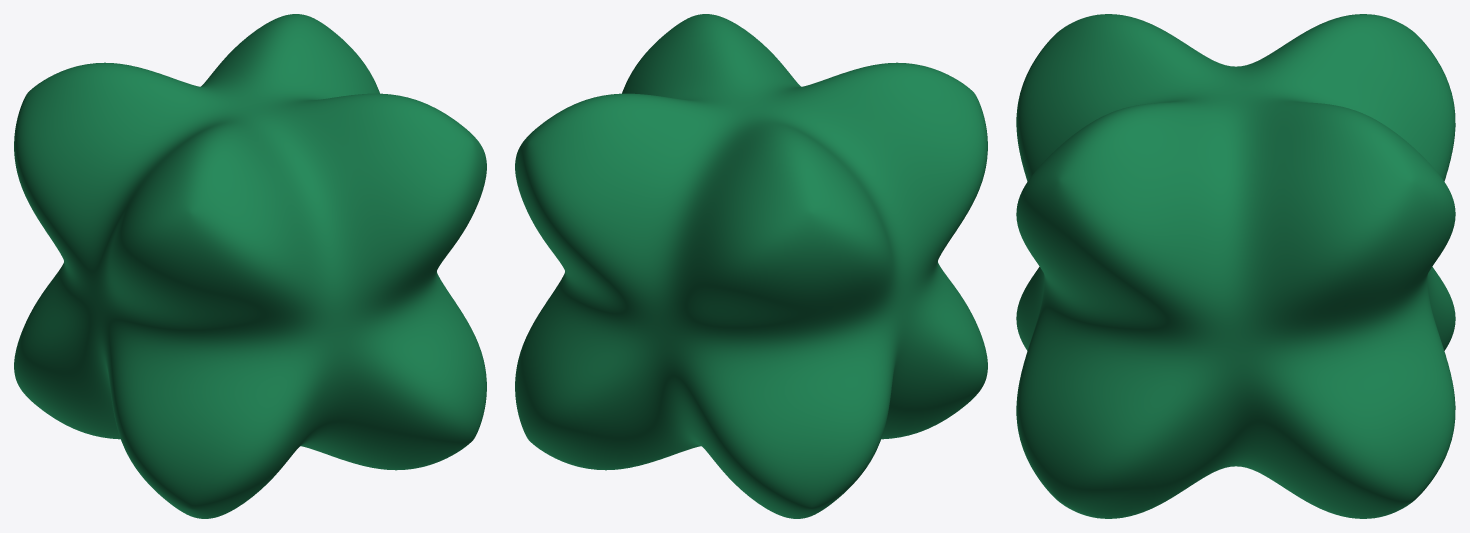
File: Planet4.fbx
3 renders of one model, left to right at view 1: azimuth 30°, elevation 25°; view 2: azimuth 150°, elevation 25°; view 3: azimuth 270°, elevation 25°, orthographic. The views are drawn at different scales.
Parts seen in each view (by area): view 1: Planet4; view 2: Planet4; view 3: Planet4.
Part boxes in pixels (left/top/right/bottom): Planet4: left=14, top=14, right=486, bottom=518; Planet4: left=515, top=14, right=987, bottom=518; Planet4: left=1016, top=14, right=1455, bottom=518.
Size of the model in its own units: 585 by 585 by 585.
